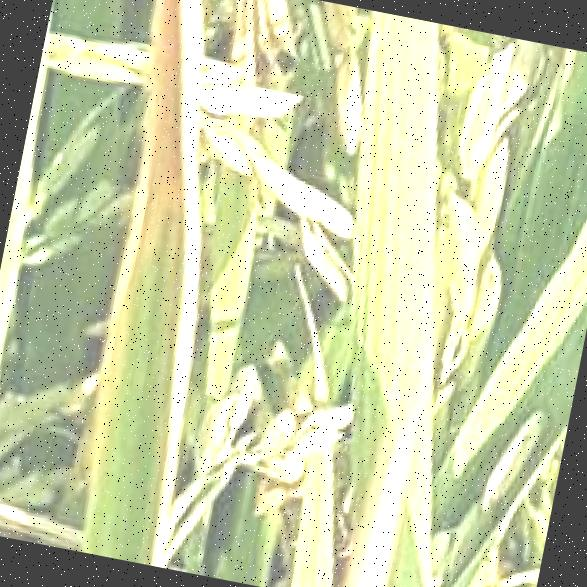Bacteria_Leaf_Blight: (27, 0, 282, 522)
